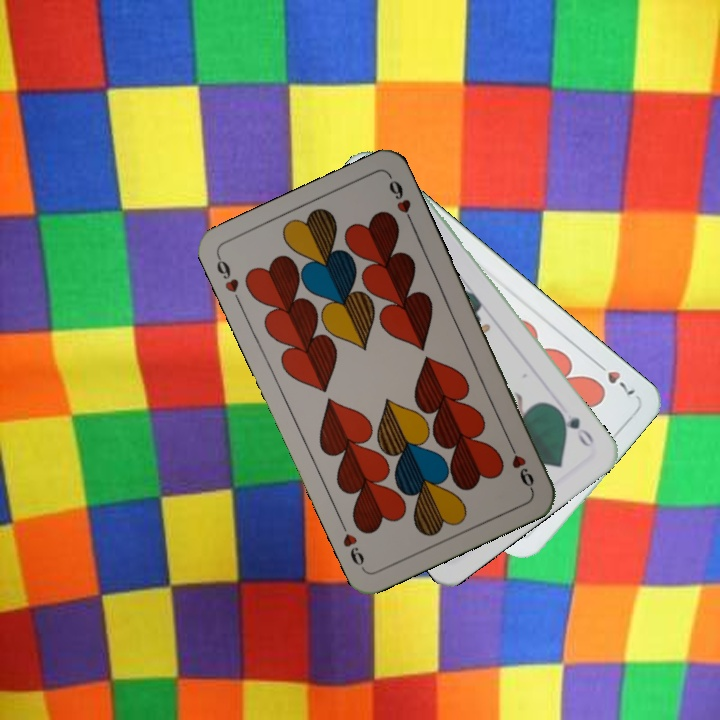GO: (552, 404, 597, 451)
H7: (590, 356, 638, 398)
H9: (504, 437, 537, 493), (212, 252, 244, 308)
